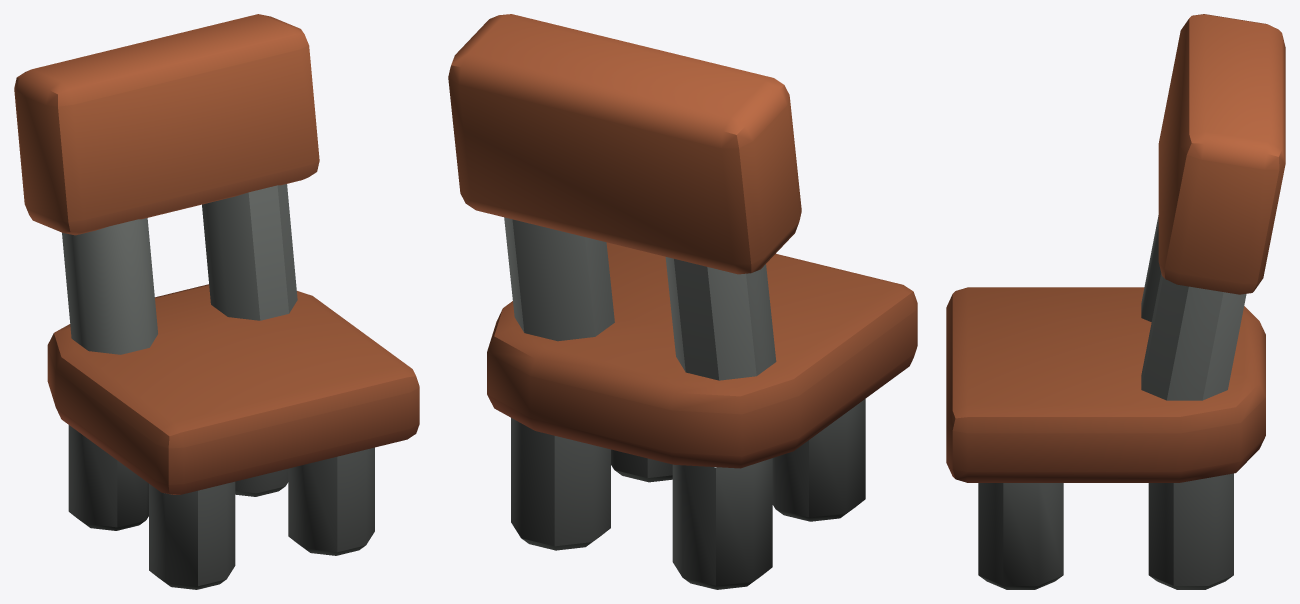
The model's file is chair-a.glb.
3 renders of one model, left to right at view 1: azimuth 30°, elevation 25°; view 2: azimuth 150°, elevation 25°; view 3: azimuth 270°, elevation 25°, orthographic. The views are drawn at different scales.
Visible parts, largest first — view 1: chair-a; view 2: chair-a; view 3: chair-a.
Boxes of the visible parts, left/top/right/bottom form: chair-a: left=14, top=14, right=419, bottom=589; chair-a: left=448, top=14, right=917, bottom=589; chair-a: left=946, top=14, right=1285, bottom=589.
Size of the model in its own units: 0.5898 by 0.95 by 0.6262.
